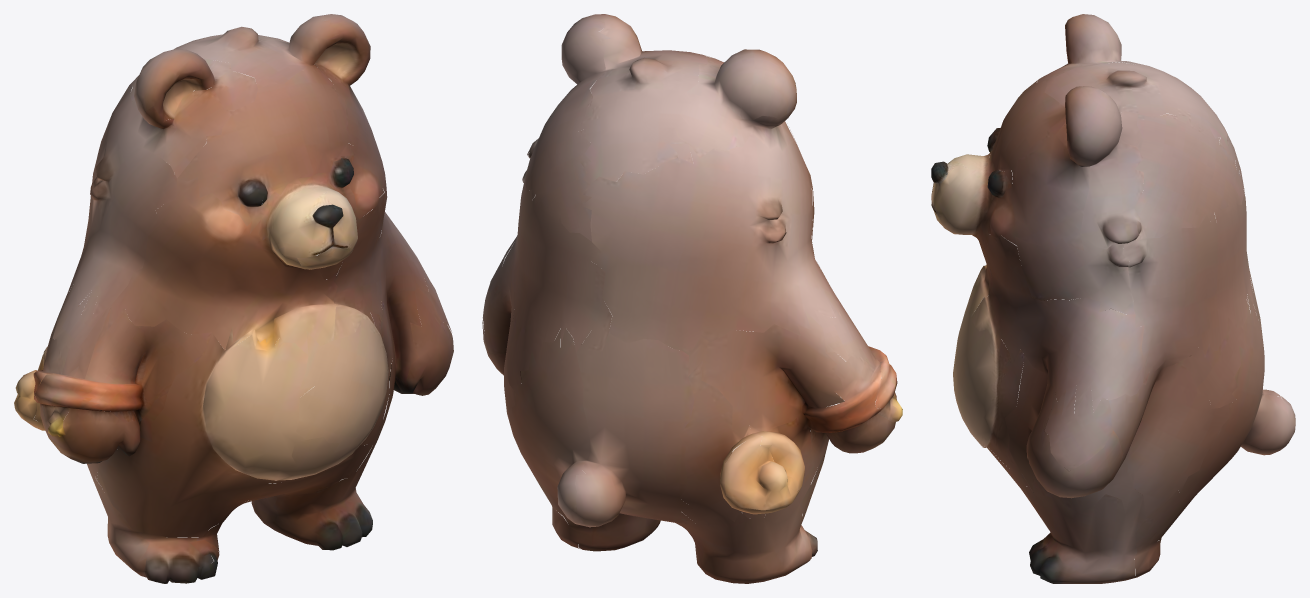
File: mob_bear.glb
3 renders of one model, left to right at view 1: azimuth 30°, elevation 25°; view 2: azimuth 150°, elevation 25°; view 3: azimuth 270°, elevation 25°, orthographic. The views are drawn at different scales.
Parts seen in each view (by area): view 1: tripo_node_4117c909-66e4-4503-b4f5-e889d6b1fdab; view 2: tripo_node_4117c909-66e4-4503-b4f5-e889d6b1fdab; view 3: tripo_node_4117c909-66e4-4503-b4f5-e889d6b1fdab.
Part boxes in pixels (x1,y1,x2,y2): tripo_node_4117c909-66e4-4503-b4f5-e889d6b1fdab: (14,14,453,583); tripo_node_4117c909-66e4-4503-b4f5-e889d6b1fdab: (482,14,902,583); tripo_node_4117c909-66e4-4503-b4f5-e889d6b1fdab: (931,14,1295,583).
Bounding box in the file's own units: 0.8281 × 1 × 0.6804.
Materials: 1 (1 with a texture image).
